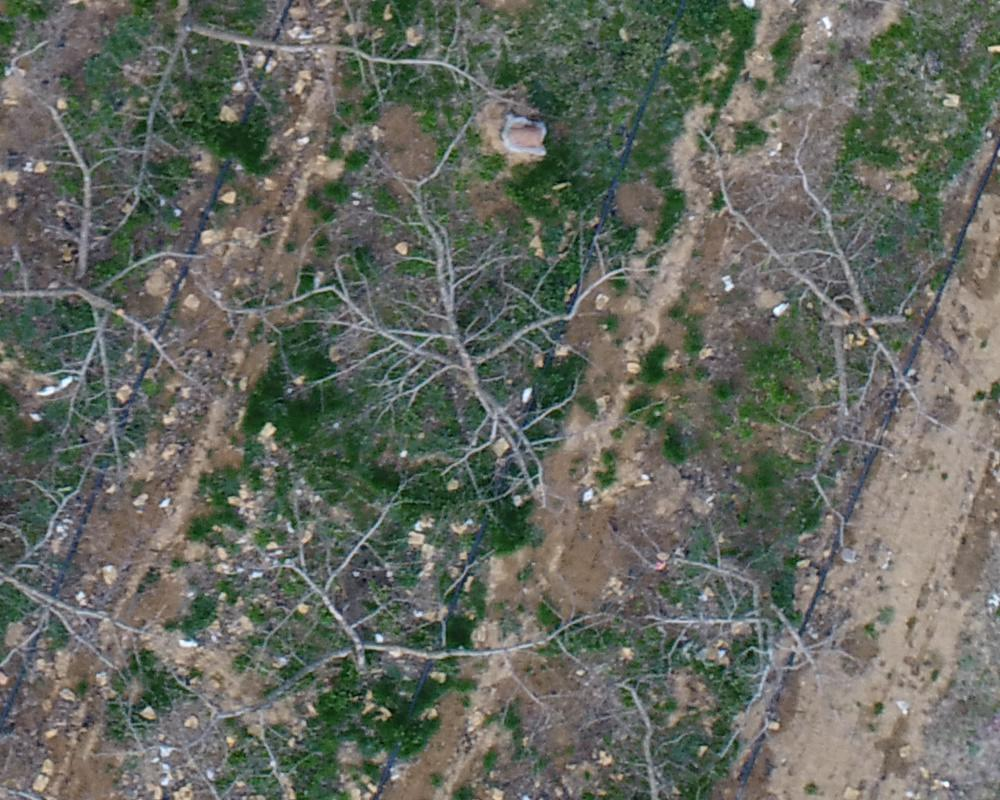apple: (193, 111, 690, 547), (687, 101, 990, 551), (188, 471, 613, 761), (94, 10, 520, 233), (10, 97, 243, 486), (620, 529, 888, 744), (10, 379, 169, 715)
